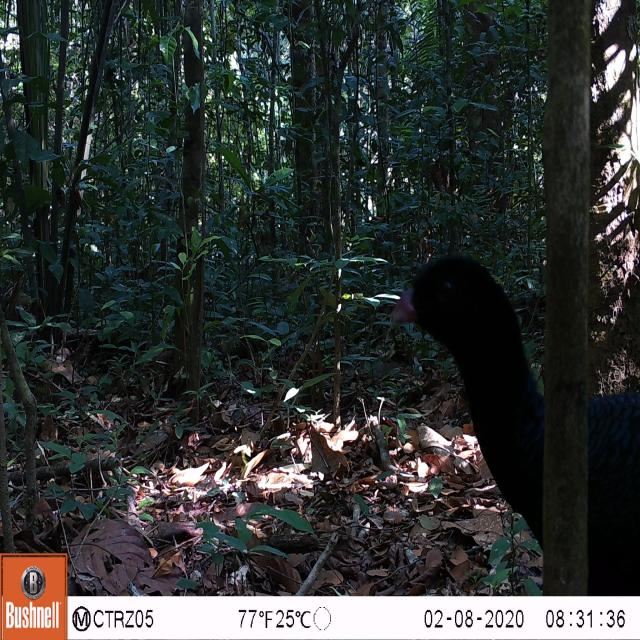Salvins Curassow: (386, 231, 640, 593)
